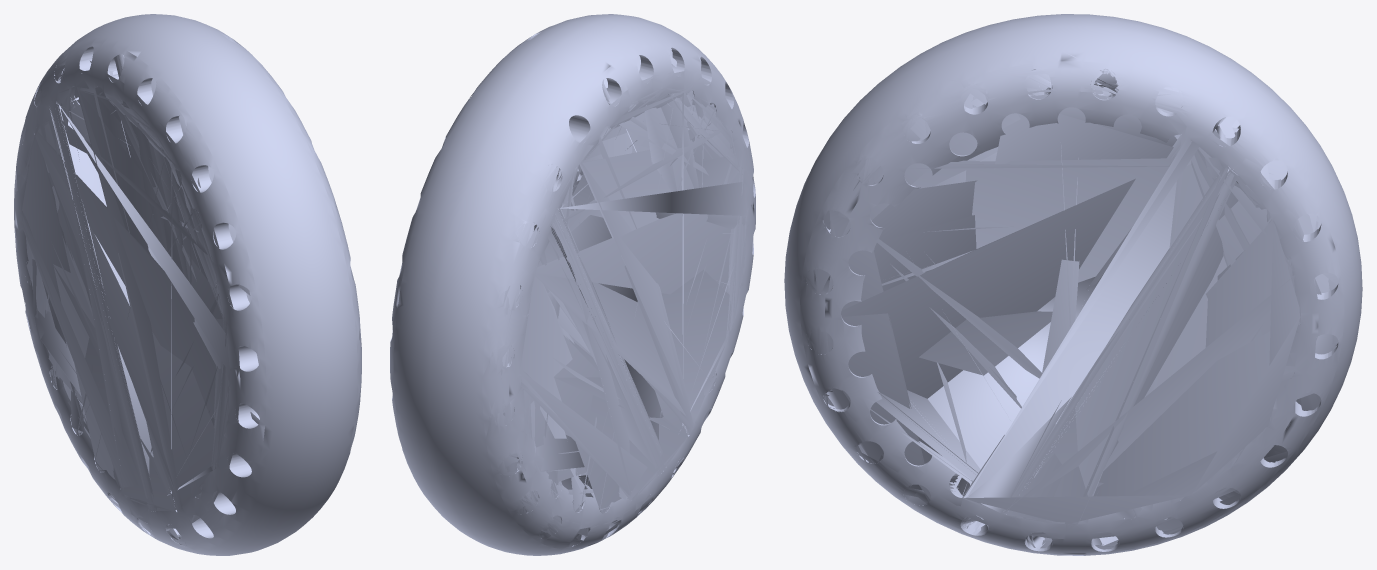
The model's file is fr_wheel_link.dae.
3 views of the same model, side by side, from view 1: azimuth 30°, elevation 25°; view 2: azimuth 150°, elevation 25°; view 3: azimuth 270°, elevation 25° (orthographic). The views are drawn at different scales.
Parts seen in each view (by area): view 1: node0, node2, node1; view 2: node0, node2, node1; view 3: node1, node0, node2.
Part boxes in pixels (x1,y1,x2,y2): node0: [14, 14, 361, 555]; node2: [14, 38, 361, 547]; node1: [15, 24, 361, 546]; node0: [390, 14, 755, 555]; node2: [399, 22, 753, 546]; node1: [392, 22, 753, 549]; node1: [792, 34, 1359, 550]; node0: [784, 14, 1362, 555]; node2: [787, 33, 1353, 551].
Bounding box in the file's own units: 0.0735 × 0.2658 × 0.2659.
